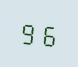nine: (19, 18, 37, 46)
six: (38, 19, 56, 48)
